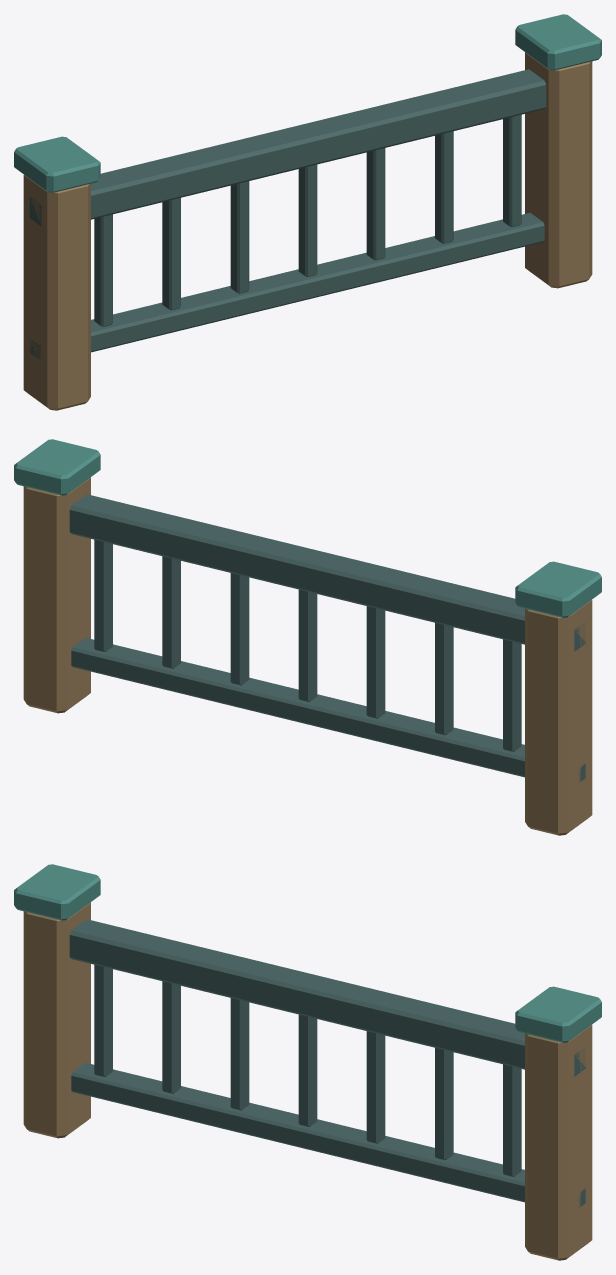
File: railing-straight.glb
3 renders of one model, top to bottom at view 1: azimuth 30°, elevation 25°; view 2: azimuth 150°, elevation 25°; view 3: azimuth 330°, elevation 25°, orthographic.
Visible parts, largest first — view 1: railing-straight__body; view 2: railing-straight__body; view 3: railing-straight__body.
Part boxes in pixels (box(x1,y1,x2,y2)): railing-straight__body: box(14, 14, 601, 410); railing-straight__body: box(14, 439, 601, 835); railing-straight__body: box(14, 864, 601, 1260).
Size of the model in its own units: 2.04 by 0.85 by 0.24.
